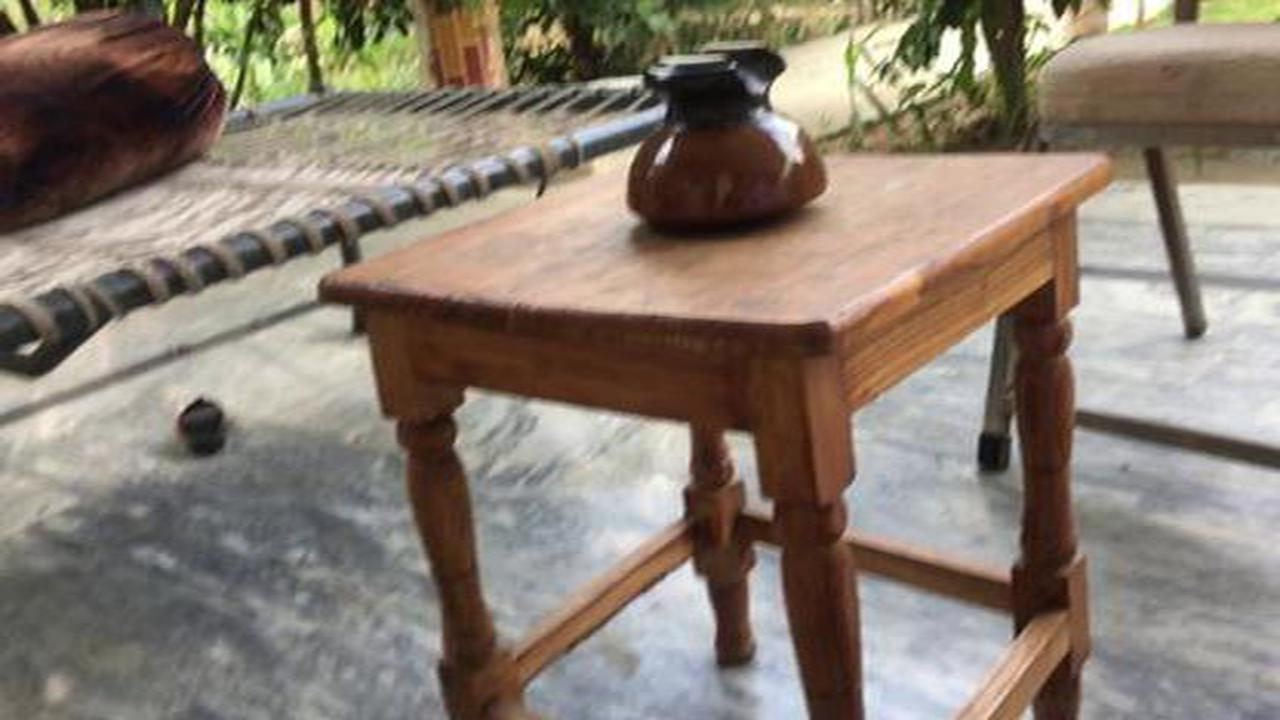insulator_pin: (588, 42, 850, 243)
